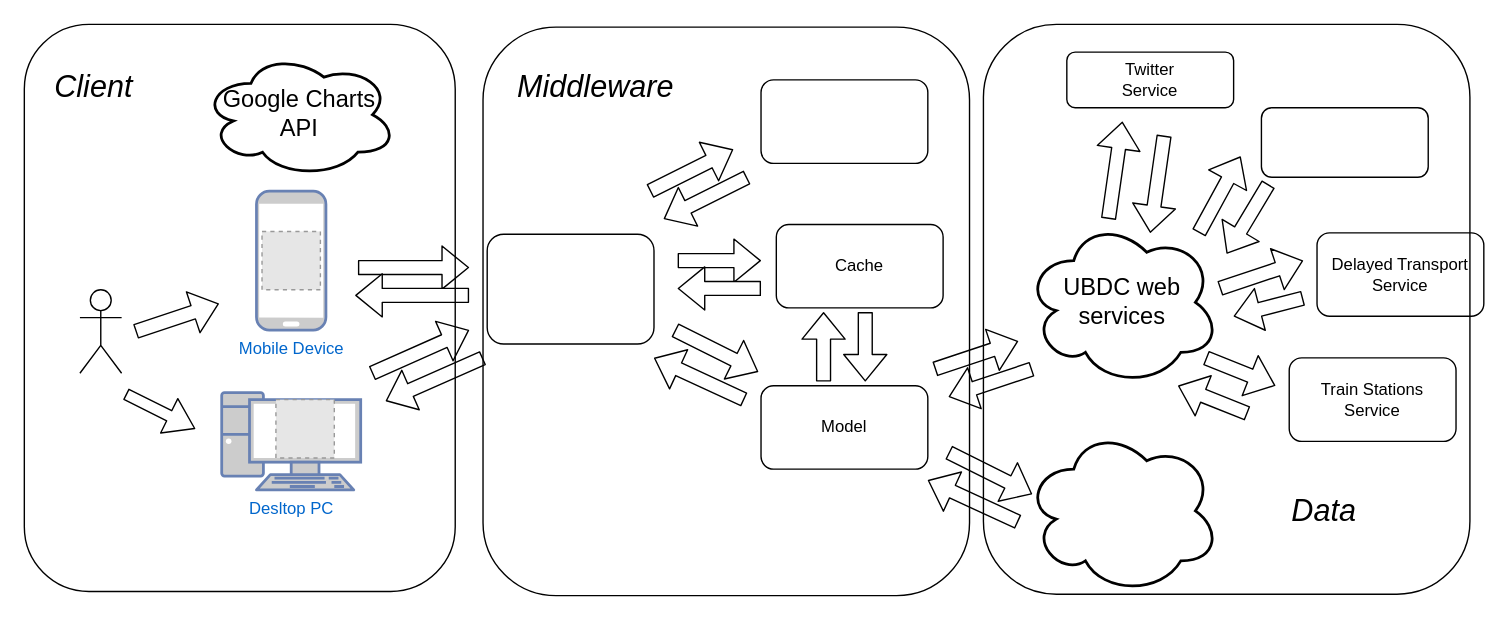
This 1508x620 diagram has some shape labels left out. Grey dashed boxes stand in for pictures. Here are the shapes that lost their labels. From the top down, the centre of each, then its label:
(844,121): View
(1344,141): Busy Venues Service
(570,288): Controller
(100,330): User
(1121,510): Twitter API
